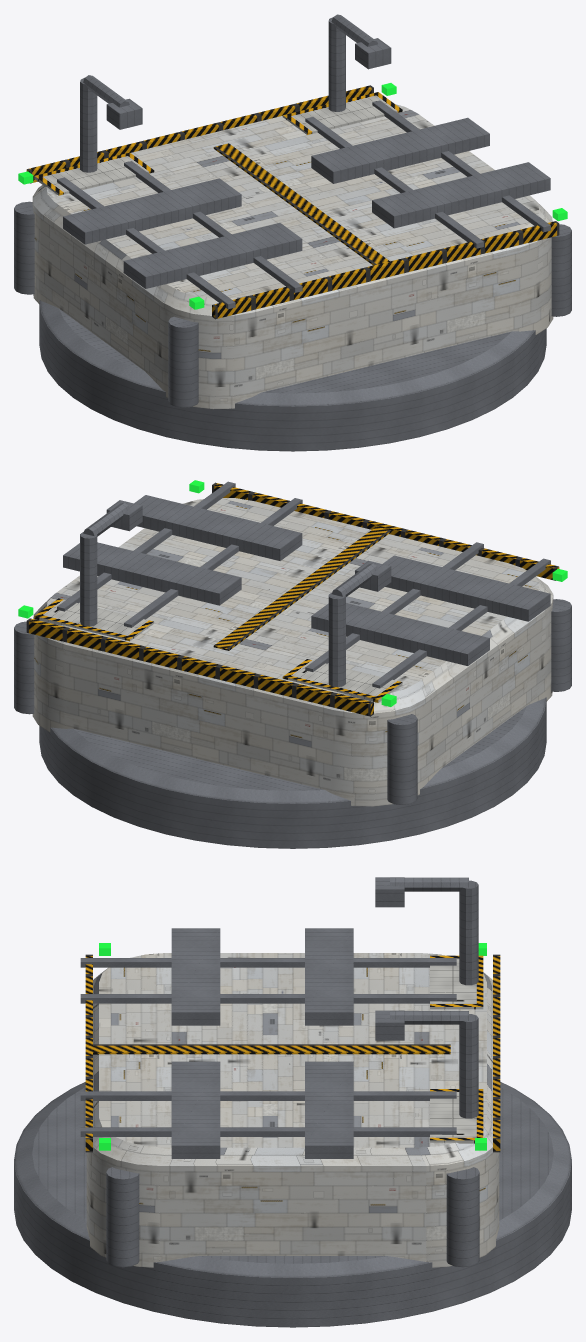
File: bahia_drones.gltf
3 renders of one model, top to bottom at view 1: azimuth 30°, elevation 25°; view 2: azimuth 150°, elevation 25°; view 3: azimuth 270°, elevation 25°, orthographic. The views are drawn at different scales.
Visible parts, largest first — view 1: bahia_hangar, bahia_estructura, bahia_zocalo, bahia_aviso, bahia_compuertas, bahia_luces; view 2: bahia_hangar, bahia_estructura, bahia_zocalo, bahia_aviso, bahia_compuertas, bahia_luces; view 3: bahia_hangar, bahia_zocalo, bahia_estructura, bahia_aviso, bahia_compuertas, bahia_luces.
Part boxes in pixels (x1=…): bahia_hangar: x1=32, y1=104, x2=553, y2=409; bahia_estructura: x1=14, y1=14, x2=571, y2=407; bahia_zocalo: x1=39, y1=299, x2=546, y2=451; bahia_aviso: x1=26, y1=85, x2=559, y2=319; bahia_compuertas: x1=34, y1=92, x2=402, y2=195; bahia_luces: x1=18, y1=83, x2=567, y2=309; bahia_hangar: x1=32, y1=498, x2=553, y2=806; bahia_estructura: x1=14, y1=481, x2=571, y2=804; bahia_zocalo: x1=39, y1=697, x2=546, y2=848; bahia_aviso: x1=26, y1=482, x2=559, y2=716; bahia_compuertas: x1=34, y1=598, x2=402, y2=702; bahia_luces: x1=18, y1=480, x2=567, y2=706; bahia_hangar: x1=86, y1=953, x2=499, y2=1267; bahia_zocalo: x1=14, y1=1082, x2=571, y2=1327; bahia_estructura: x1=80, y1=877, x2=479, y2=1267; bahia_aviso: x1=85, y1=954, x2=500, y2=1152; bahia_compuertas: x1=430, y1=955, x2=483, y2=1143; bahia_luces: x1=99, y1=943, x2=486, y2=1150.
Bounding box in the file's own units: 46 × 24.1 × 46.
Materials: 5 (5 with a texture image).
